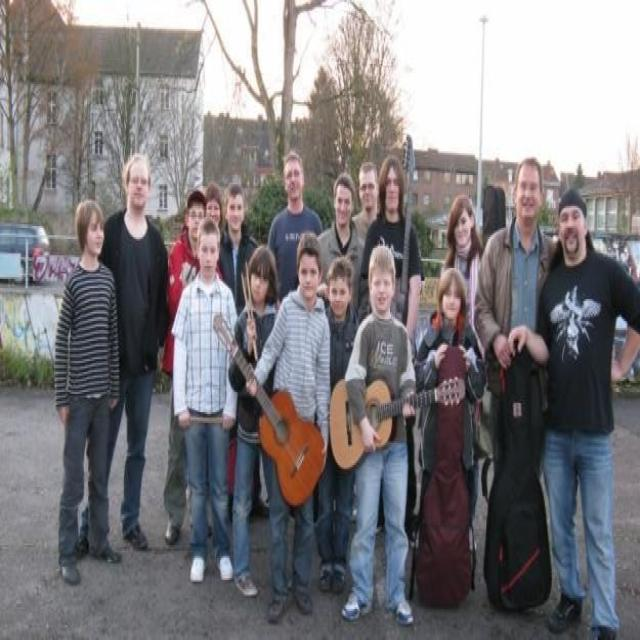guitar: (212, 308, 328, 516), (326, 373, 472, 471), (392, 115, 419, 328)
